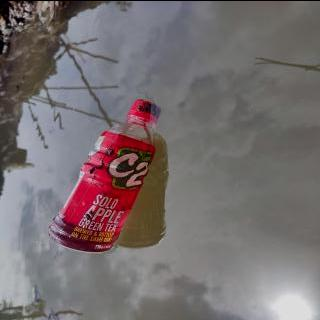bottle: (44, 97, 164, 255)
